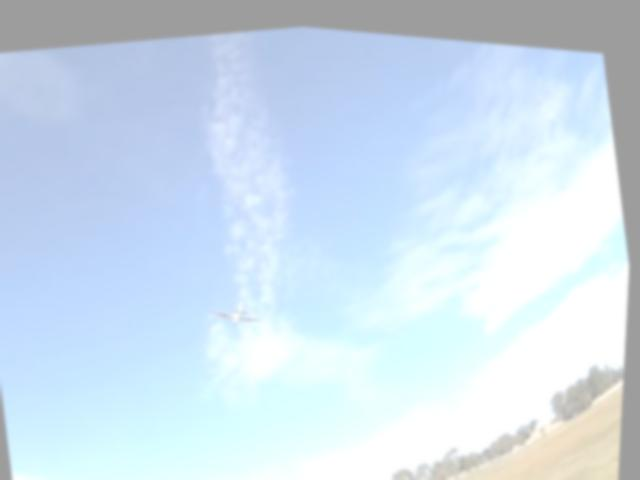uav: (205, 284, 273, 338)
